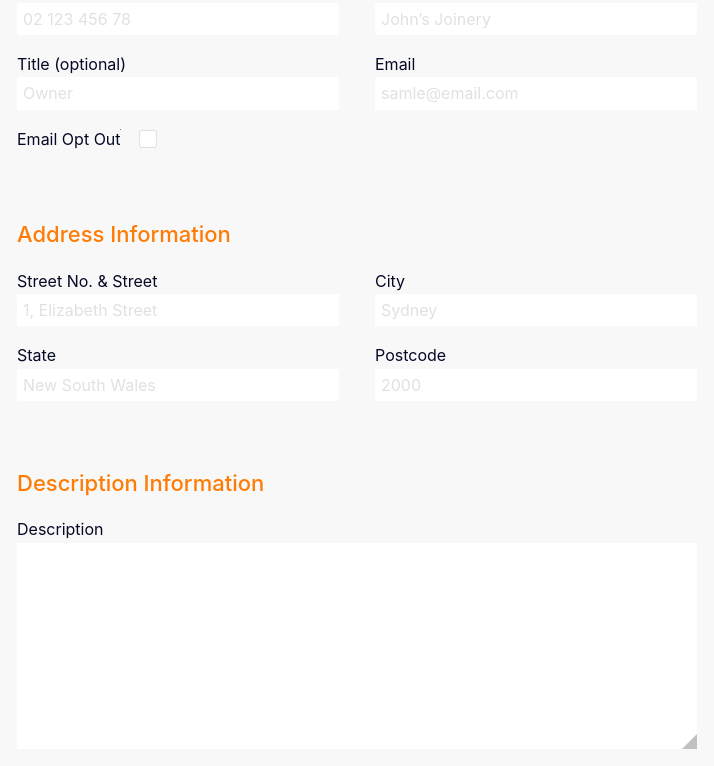
Test: should see Victoria
The width and height of the screenshot is (714, 766).
(page scrolled)
Focus the field with test id "state" at coordinates (178, 385), box [17,369,339,401]
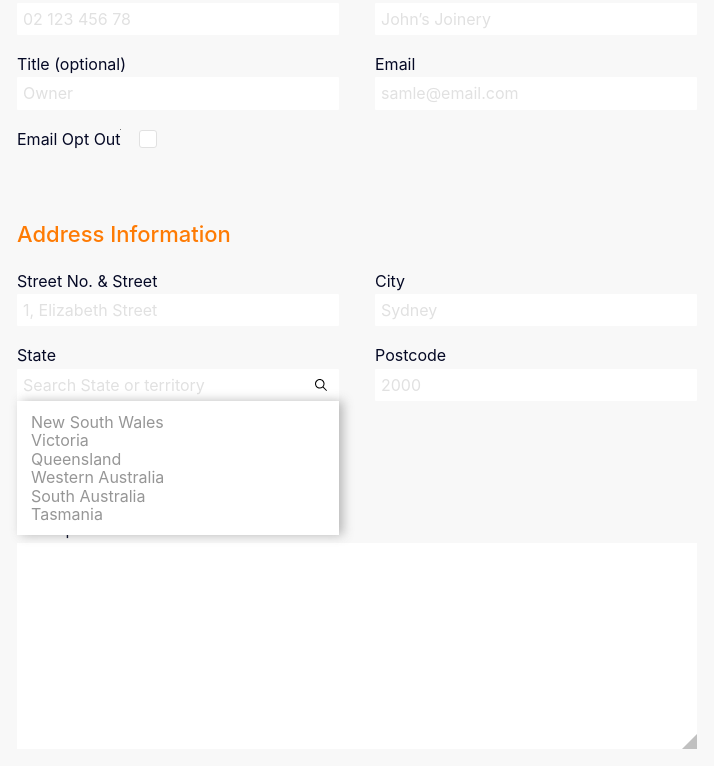
Expected: the list item "Victoria" is shown, [31,430,89,450]
Expected: the list item "Queensland" is shown, [31,449,121,469]
